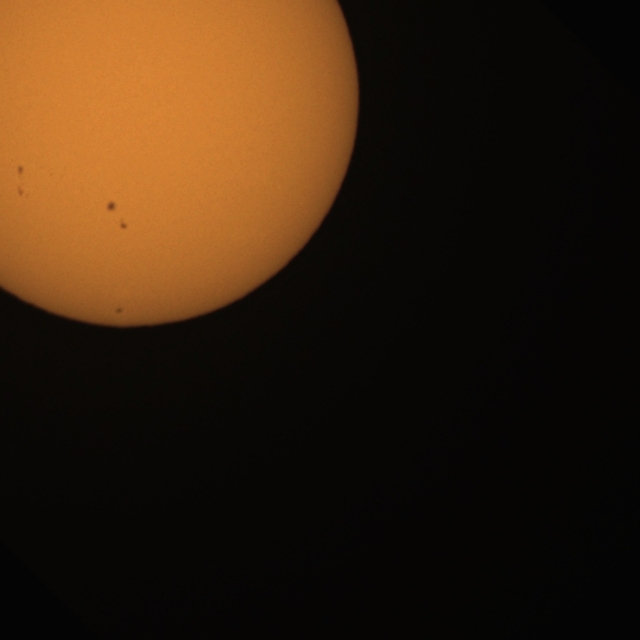sunspot: (105, 202, 128, 230), (15, 162, 27, 196), (105, 200, 118, 215), (16, 164, 26, 179), (119, 217, 129, 231), (16, 184, 25, 198), (114, 306, 125, 316)
